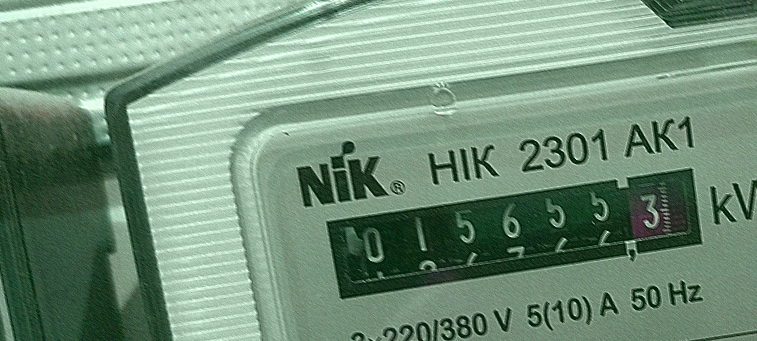0: (355, 223, 386, 268)
1: (406, 215, 430, 256)
3: (635, 193, 659, 232)
5: (447, 209, 477, 248), (540, 197, 567, 232), (586, 190, 609, 225)
6: (494, 203, 522, 242)
screen: (308, 148, 718, 319)
